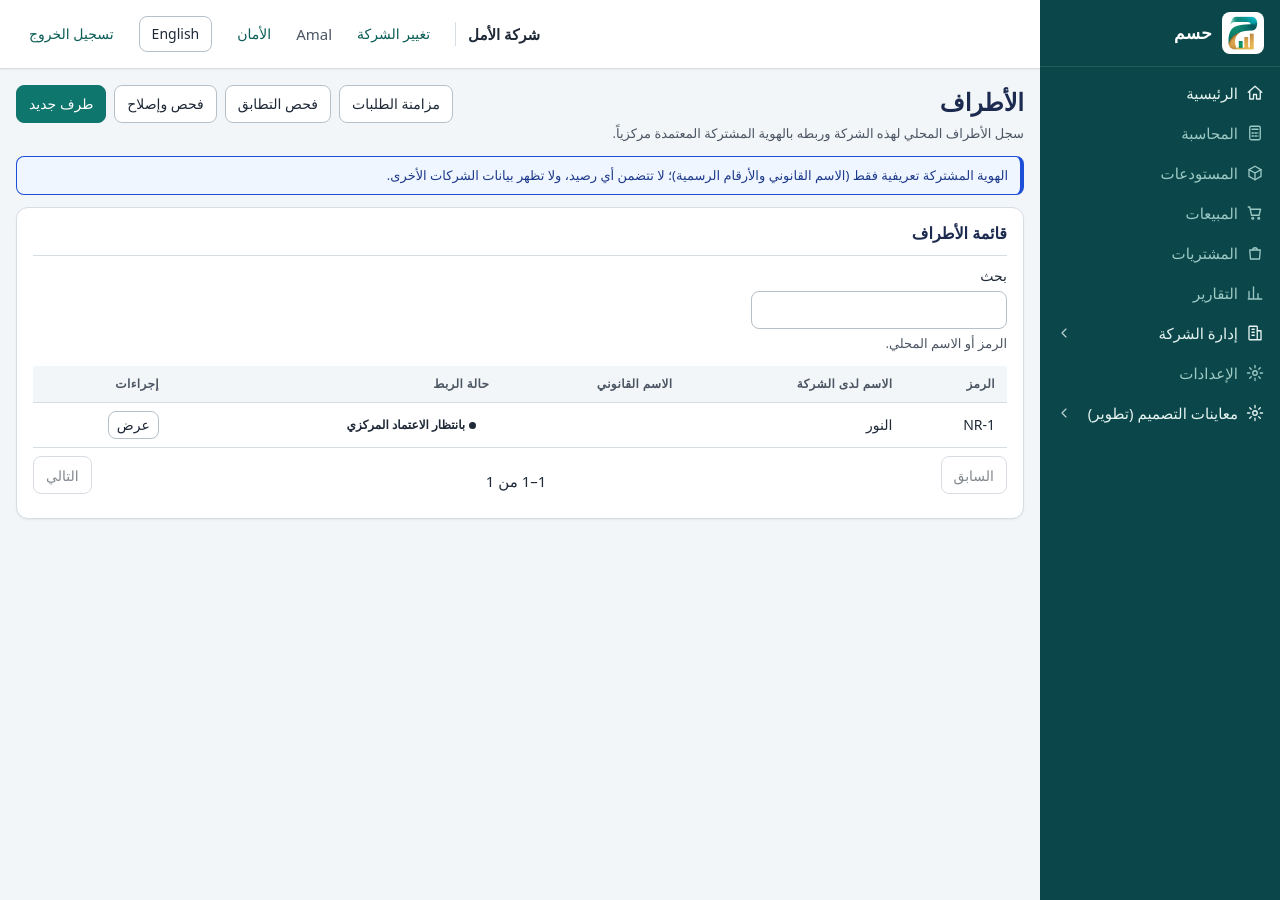
it: attachments tab of the party editor › is offered only to a user who may view attachments
Expected: the element with test id "company-name" is shown, [455,22,540,46]
Click the button "عرض" at (133, 425), box [108,411,159,439]
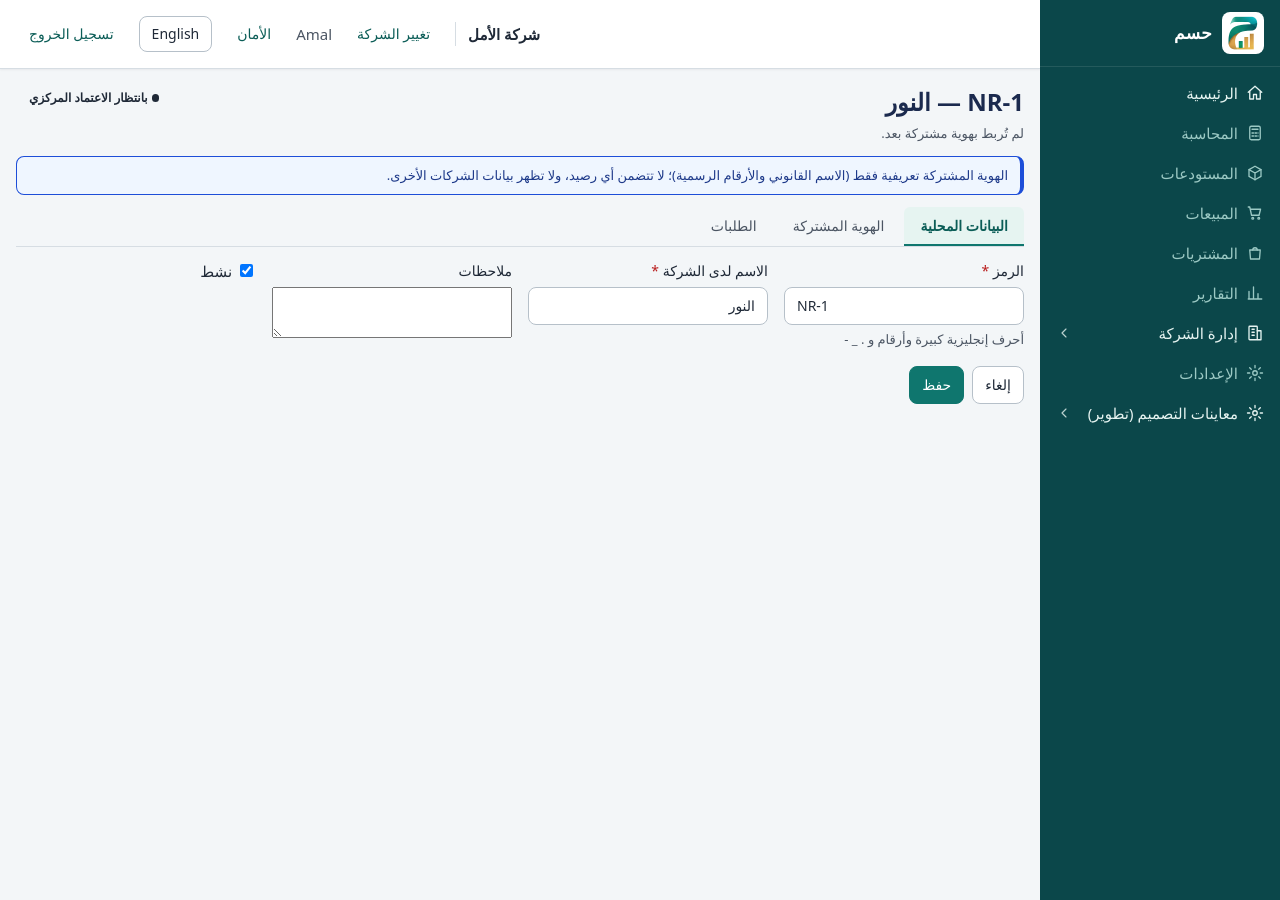
Result: the element with test id "pty-editor" is shown at [16,85,1024,404]
